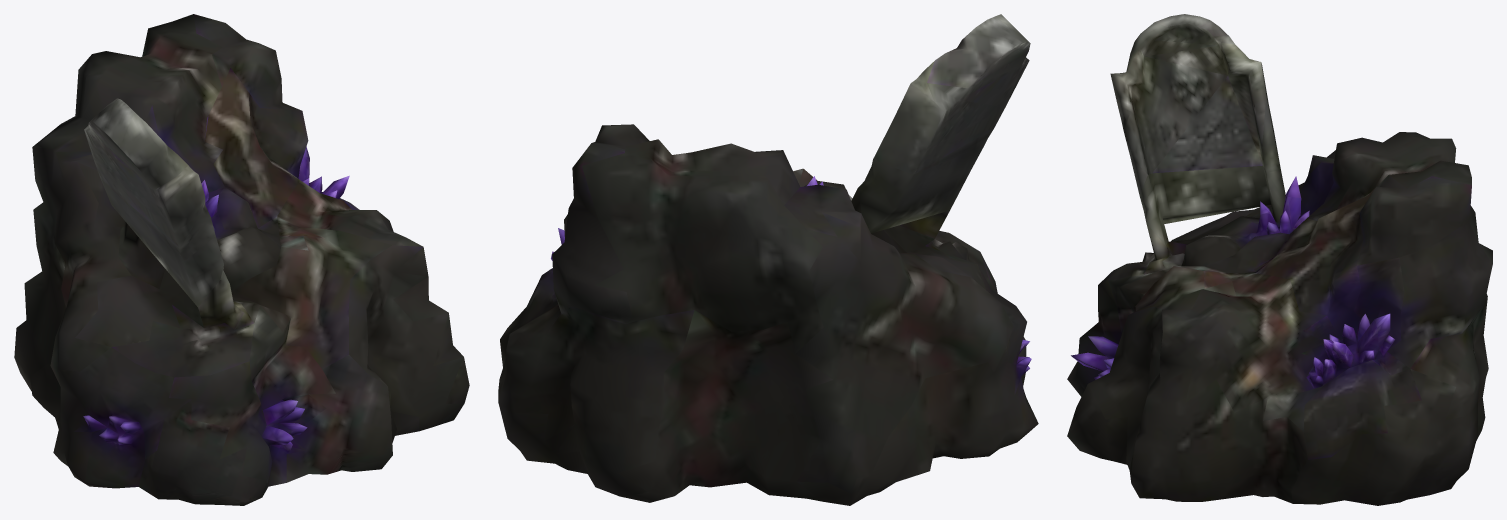
File: prop_node_ore_seam_iron.glb
The picture shows the model from 3 angles, left to right: view 1: azimuth 30°, elevation 25°; view 2: azimuth 150°, elevation 25°; view 3: azimuth 270°, elevation 25°; orthographic projection. The views are drawn at different scales.
Parts seen in each view (by area): view 1: tripo_node_0bf5bb75-011f-4941-bb16-5c0978e515fd; view 2: tripo_node_0bf5bb75-011f-4941-bb16-5c0978e515fd; view 3: tripo_node_0bf5bb75-011f-4941-bb16-5c0978e515fd.
Boxes of the visible parts, x1,y1,x2,y2 form: tripo_node_0bf5bb75-011f-4941-bb16-5c0978e515fd: (14, 14, 469, 505); tripo_node_0bf5bb75-011f-4941-bb16-5c0978e515fd: (498, 14, 1038, 505); tripo_node_0bf5bb75-011f-4941-bb16-5c0978e515fd: (1067, 14, 1492, 505).
Size of the model in its own units: 0.9786 by 0.8964 by 0.998.
1 material, 1 textured.
